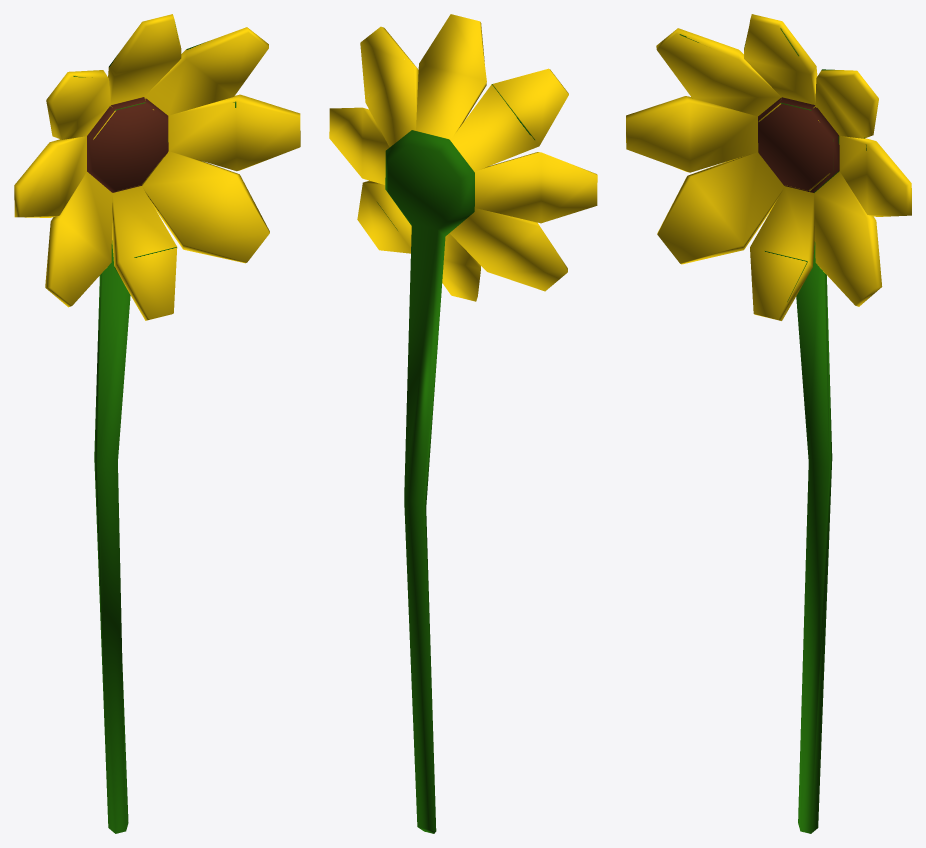
File: Flower_001.glb
3 views of the same model, side by side, from view 1: azimuth 30°, elevation 25°; view 2: azimuth 150°, elevation 25°; view 3: azimuth 330°, elevation 25° (orthographic). The views are drawn at different scales.
Parts seen in each view (by area): view 1: Flower.001; view 2: Flower.001; view 3: Flower.001.
Part boxes in pixels (<box>): Flower.001: <box>14,14,300,833</box>; Flower.001: <box>329,14,597,833</box>; Flower.001: <box>626,14,911,833</box>.
Bounding box in the file's own units: 0.4989 × 1.4 × 0.1717.
1 material, 1 textured.
